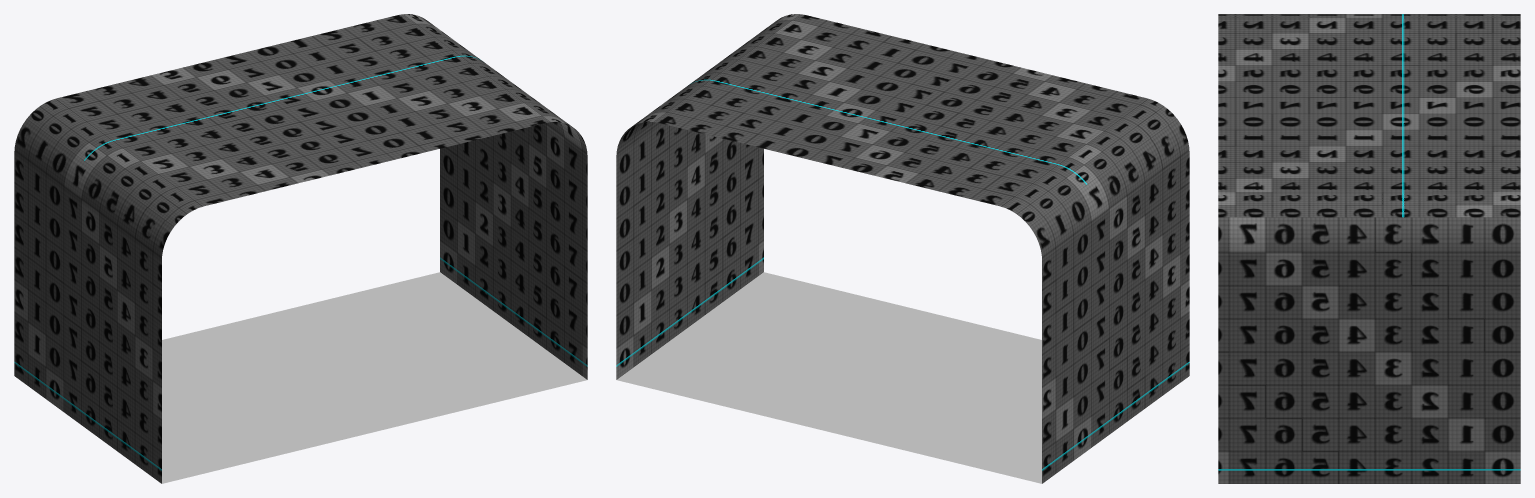
The model's file is WallFrameRound500x300x300cm.FBX.
The picture shows the model from 3 angles, left to right: view 1: azimuth 30°, elevation 25°; view 2: azimuth 150°, elevation 25°; view 3: azimuth 270°, elevation 25°; orthographic projection. The views are drawn at different scales.
Visible parts, largest first — view 1: WallFrameRound500x300x300cm; view 2: WallFrameRound500x300x300cm; view 3: WallFrameRound500x300x300cm.
Boxes of the visible parts, left/top/right/bottom form: WallFrameRound500x300x300cm: left=14, top=14, right=587, bottom=483; WallFrameRound500x300x300cm: left=616, top=14, right=1189, bottom=483; WallFrameRound500x300x300cm: left=1218, top=14, right=1520, bottom=483.
Bounding box in the file's own units: 500 × 300 × 300.
